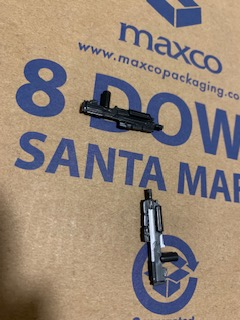rifle: (74, 88, 168, 140), (134, 189, 184, 286)
